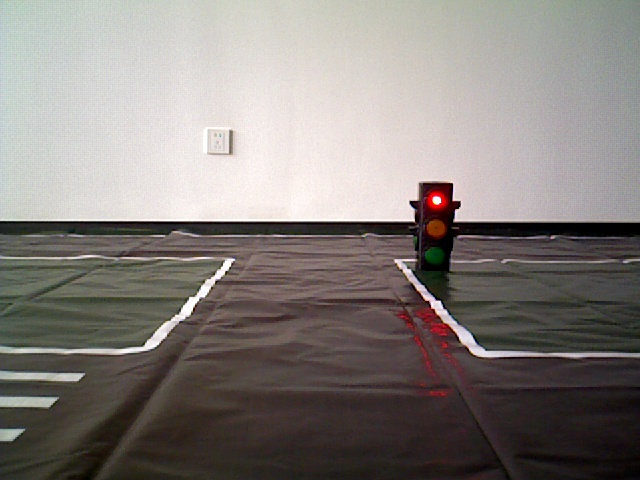red: (420, 182, 451, 273)
